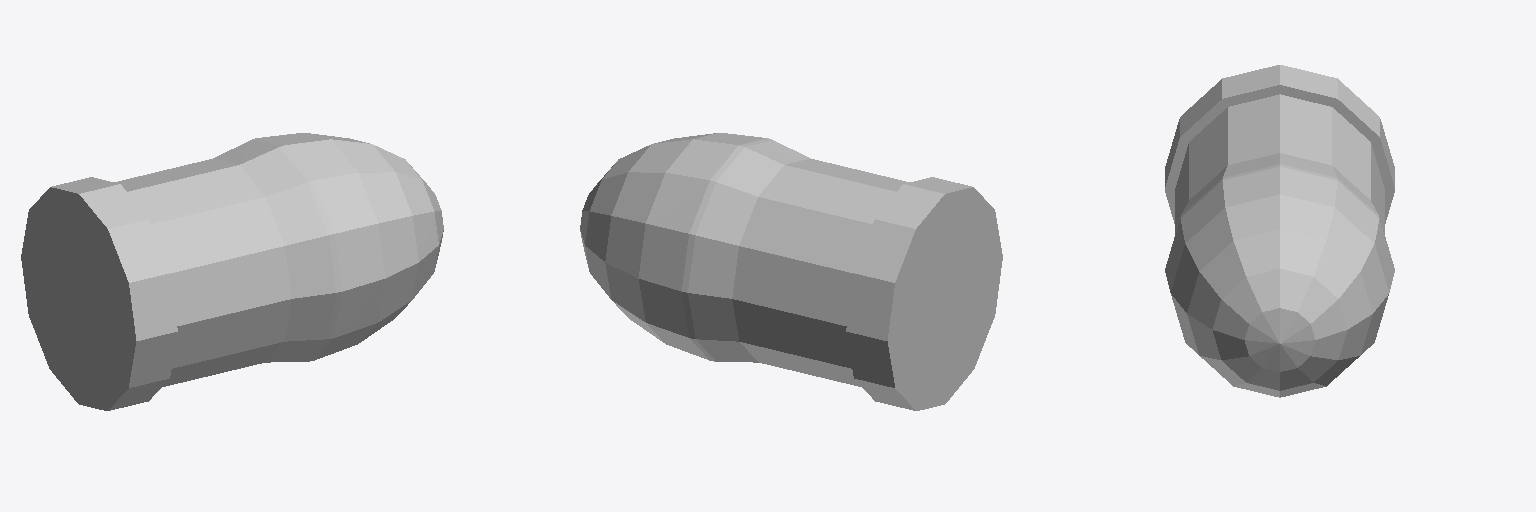
Rendered from grenade.obj.
3 views of the same model, side by side, from view 1: azimuth 30°, elevation 25°; view 2: azimuth 150°, elevation 25°; view 3: azimuth 270°, elevation 25° (orthographic).
Visible parts, largest first — view 1: pkgrenade; view 2: pkgrenade; view 3: pkgrenade.
Part boxes in pixels (left/top/right/bottom): pkgrenade: left=21, top=133, right=443, bottom=410; pkgrenade: left=580, top=133, right=1002, bottom=410; pkgrenade: left=1165, top=65, right=1394, bottom=397.
Size of the model in its own units: 6.5 by 3.68 by 3.66.